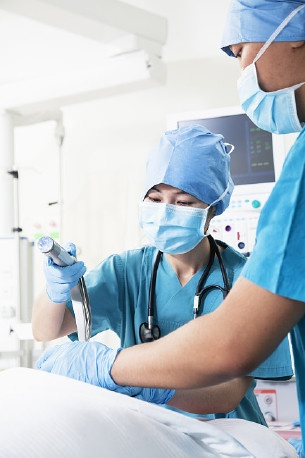Mask: (139, 177, 215, 254)
